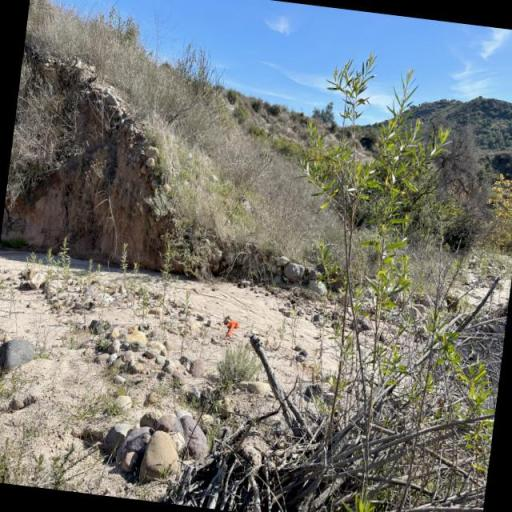mallet: (226, 320, 238, 338)
